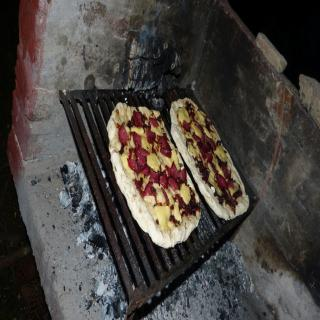Pizza: (108, 102, 201, 244), (169, 95, 250, 219)
